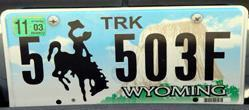placa de veiculo: (5, 7, 245, 104)
